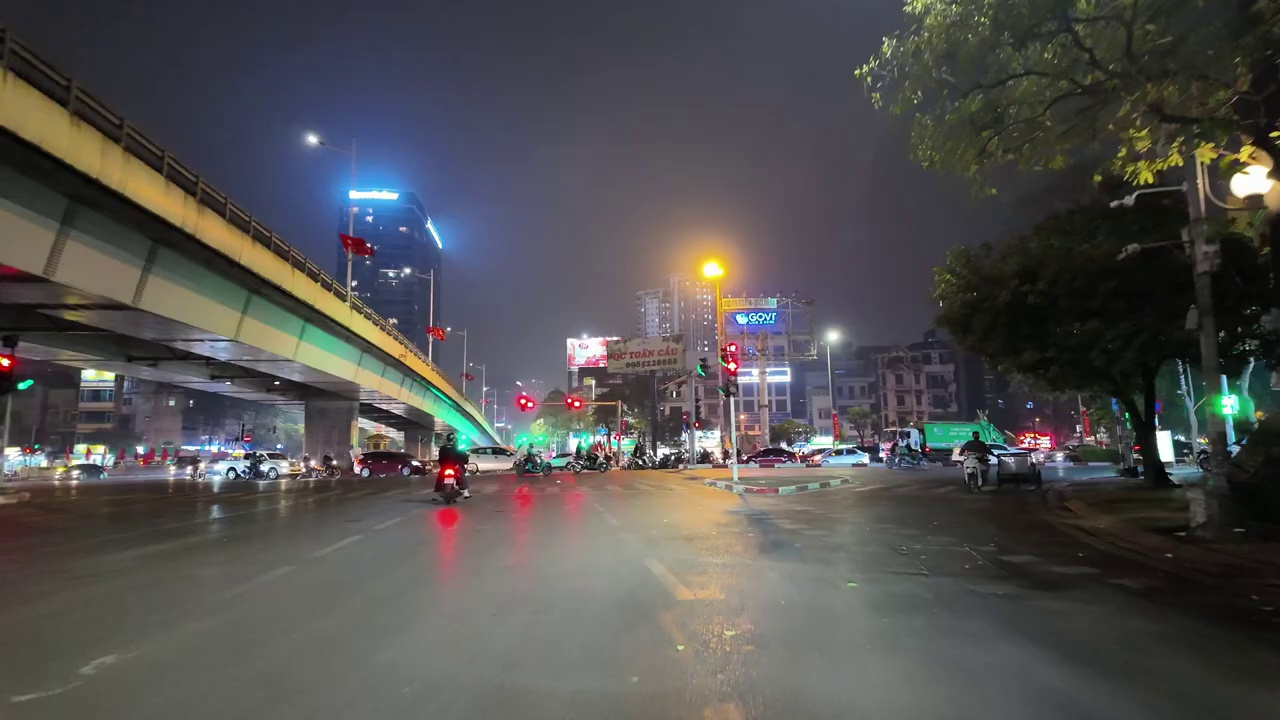acesa: (692, 252, 730, 288), (819, 325, 846, 350), (301, 129, 323, 151)
